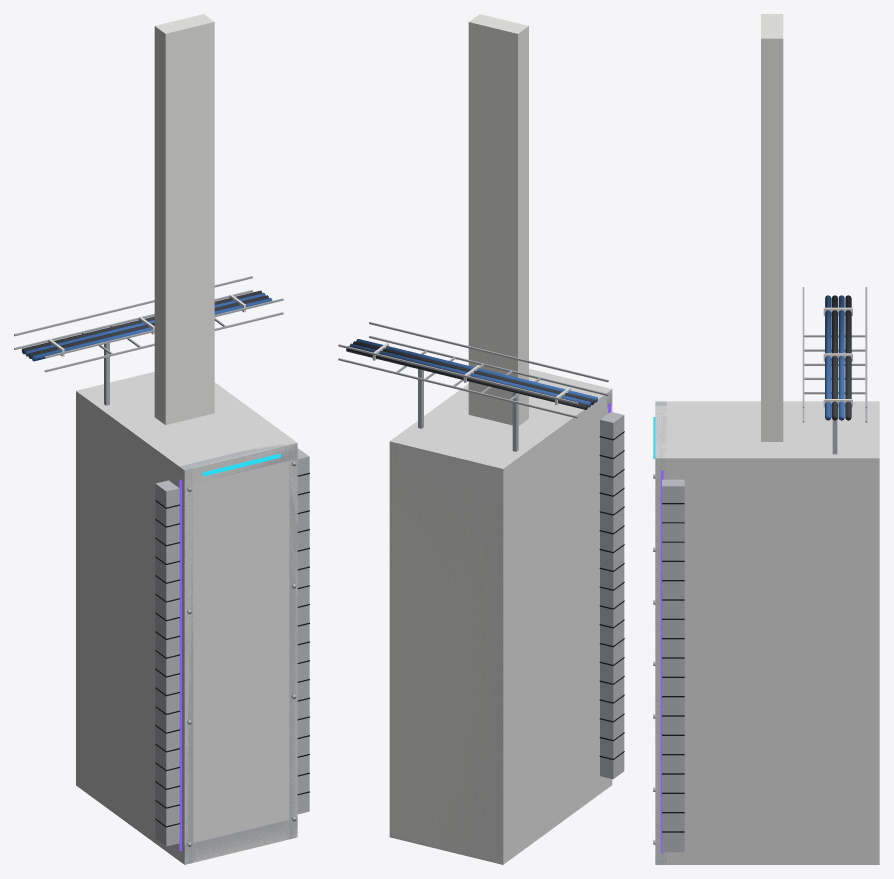
File: Tech_ServerRack.gltf
The picture shows the model from 3 angles, left to right: view 1: azimuth 30°, elevation 25°; view 2: azimuth 150°, elevation 25°; view 3: azimuth 270°, elevation 25°; orthographic projection. The views are drawn at different scales.
Parts seen in each view (by area): view 1: Tech_ServerRack_COL, Tech_ServerRack; view 2: Tech_ServerRack, Tech_ServerRack_COL; view 3: Tech_ServerRack_COL, Tech_ServerRack.
Boxes of the visible parts, x1,y1,x2,y2 form: Tech_ServerRack_COL: (76,371,297,864); Tech_ServerRack: (14,14,309,864); Tech_ServerRack: (338,14,624,859); Tech_ServerRack_COL: (389,369,612,864); Tech_ServerRack_COL: (655,401,879,864); Tech_ServerRack: (653,14,867,864).
Bounding box in the file's own units: 1.26 × 3.98 × 1.01.
